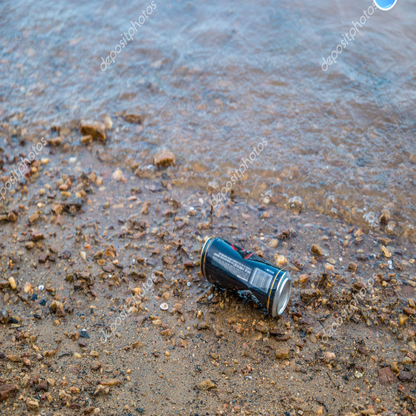can: (195, 235, 292, 318)
